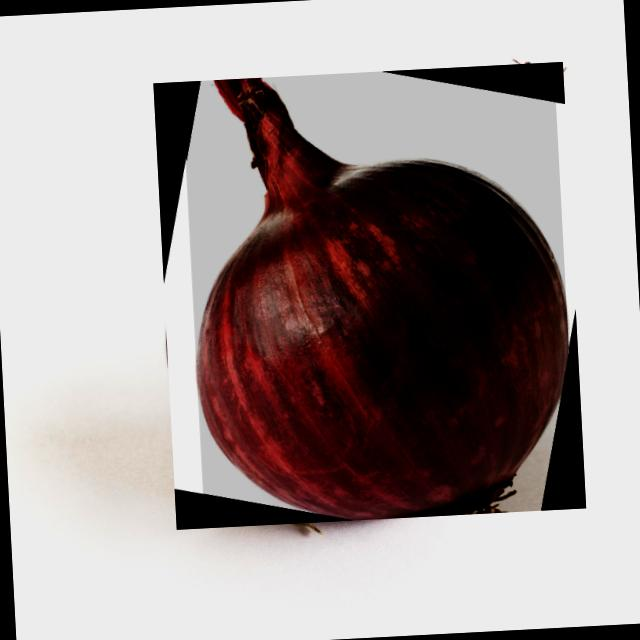healthy: (197, 78, 568, 519), (506, 512, 506, 513)
